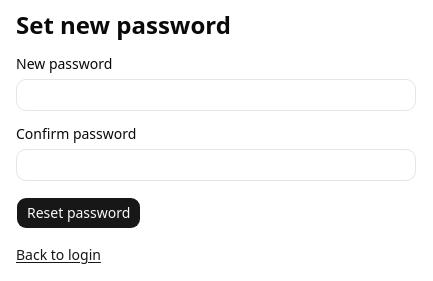
Test: ResetPassword › shows success and redirect message on success
Type "password123" into the password field labelled "New password" at point(216, 95), box [16,79,416,111]
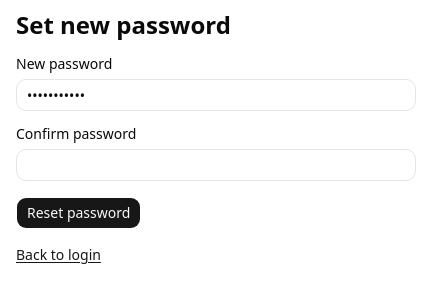
Type "password123" into the password field with id "confirm" at point(216, 165), box [16,149,416,181]
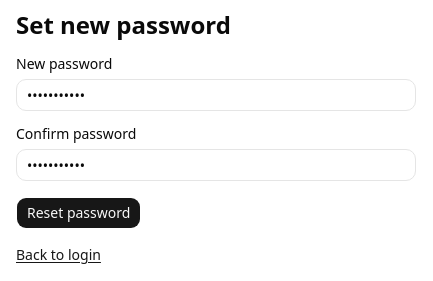
Click the button "Reset password" at point(79, 213), box [16,197,141,229]
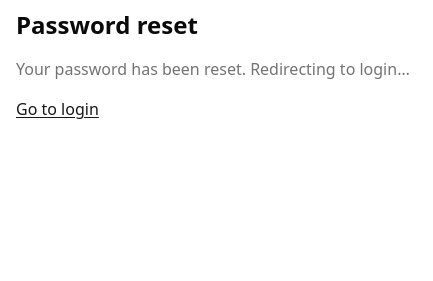
expect the text "Your password has been reset. Redirecting to login…" is shown: met, box [16,57,416,81]
